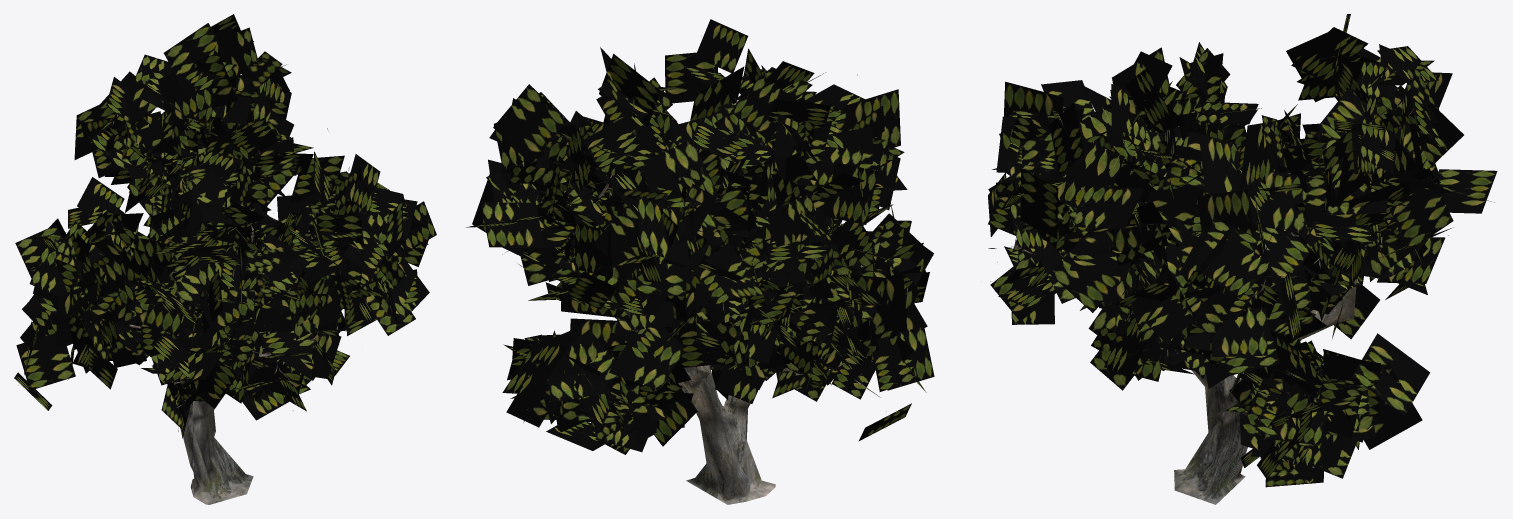
The model's file is tree_island_a.glb.
The picture shows the model from 3 angles, left to right: view 1: azimuth 30°, elevation 25°; view 2: azimuth 150°, elevation 25°; view 3: azimuth 270°, elevation 25°; orthographic projection. The views are drawn at different scales.
Size of the model in its own units: 5.05 by 5.25 by 5.11.
3 materials, 3 textured.
